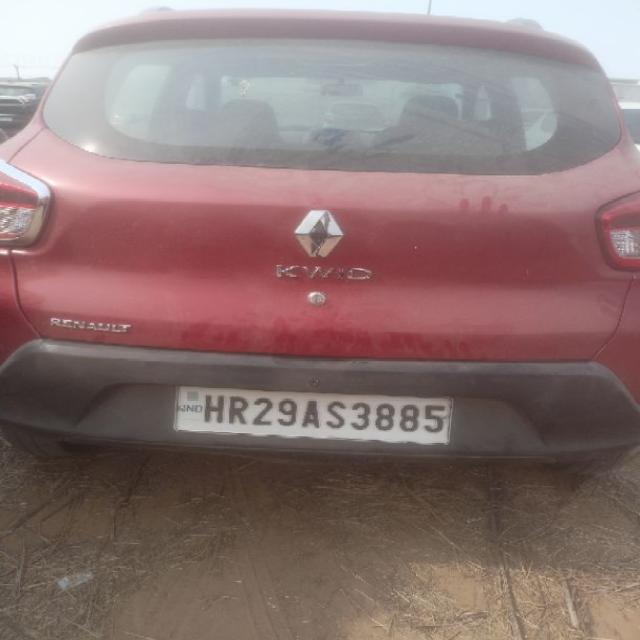license_plate: (171, 384, 454, 445)
